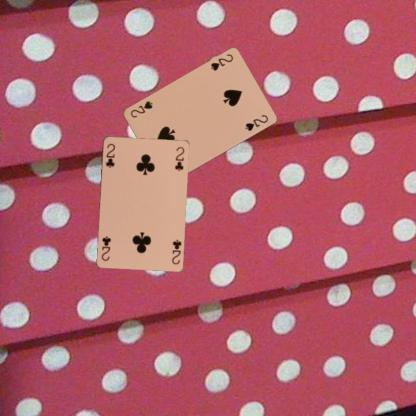2c: (169, 237, 183, 265), (103, 141, 115, 169)
2s: (208, 52, 235, 72)
